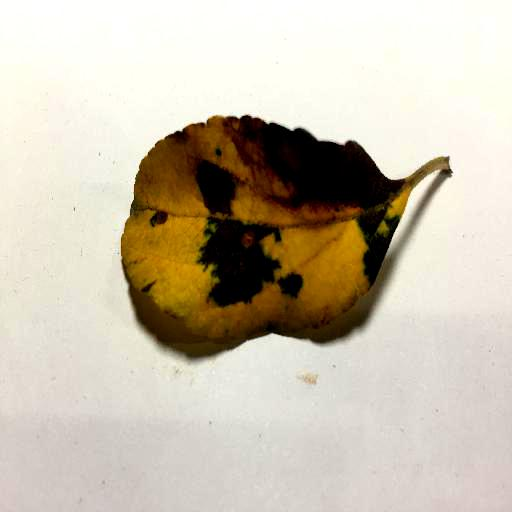Brown_Spot: (243, 125, 394, 201), (208, 214, 300, 301), (183, 148, 235, 214), (283, 274, 302, 297), (149, 211, 165, 229)
